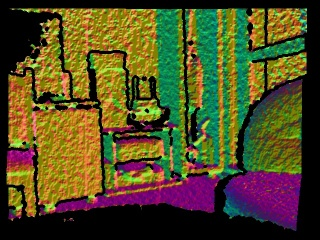station: (131, 76, 159, 106)
